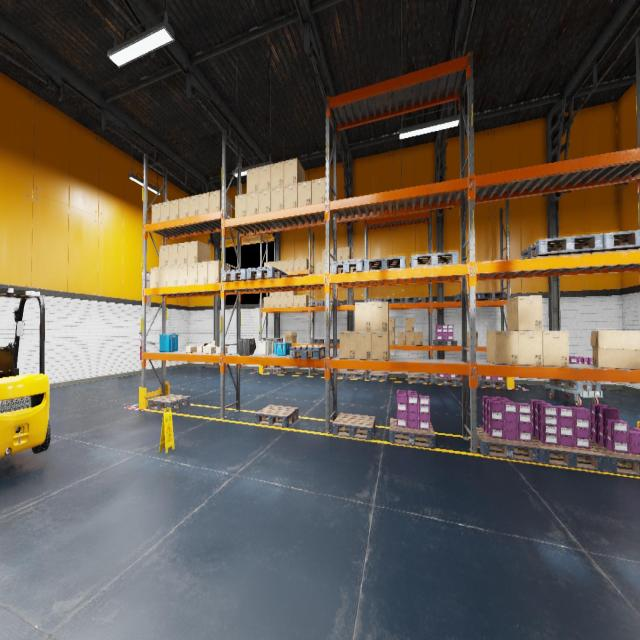box: (590, 330, 640, 370), (507, 295, 542, 330), (487, 331, 518, 365), (542, 331, 569, 366), (518, 330, 543, 366), (312, 177, 331, 212), (209, 190, 232, 218), (284, 157, 305, 185), (371, 301, 389, 331), (208, 260, 230, 283), (372, 331, 389, 360), (188, 241, 210, 263), (355, 331, 371, 360), (355, 302, 371, 331), (339, 331, 355, 359), (298, 180, 312, 206), (271, 161, 284, 188), (258, 164, 271, 191), (284, 183, 297, 209), (271, 186, 284, 211), (258, 189, 271, 213), (247, 167, 258, 193), (246, 192, 258, 215), (235, 194, 246, 217), (197, 261, 208, 284), (199, 192, 209, 215), (168, 243, 178, 266), (187, 263, 197, 285), (169, 199, 179, 220), (160, 201, 170, 222), (189, 194, 198, 217), (178, 242, 187, 264), (159, 244, 168, 266), (179, 197, 188, 218), (178, 264, 187, 285), (168, 265, 177, 286), (159, 266, 168, 287), (150, 267, 159, 287), (467, 331, 478, 346), (152, 203, 160, 223), (284, 331, 297, 343), (203, 340, 215, 352), (414, 331, 423, 345), (406, 331, 414, 345), (398, 331, 406, 345), (406, 318, 414, 331), (343, 246, 351, 259), (300, 294, 308, 306), (300, 258, 308, 270), (389, 331, 395, 345), (315, 262, 322, 274), (389, 318, 395, 331), (216, 346, 227, 353), (206, 346, 217, 353), (275, 296, 281, 308), (269, 296, 275, 308), (288, 259, 294, 271), (186, 346, 197, 352), (294, 295, 300, 306), (287, 296, 293, 307), (281, 296, 287, 307), (294, 259, 300, 270), (337, 247, 342, 260), (282, 260, 287, 272), (349, 258, 356, 266), (264, 297, 269, 307), (276, 261, 281, 270), (197, 345, 203, 352), (287, 291, 297, 295), (330, 248, 333, 260), (322, 249, 325, 261), (330, 260, 333, 272), (322, 262, 325, 274), (270, 262, 275, 268), (264, 262, 270, 267), (281, 292, 287, 296), (275, 292, 281, 296), (269, 292, 275, 296), (343, 259, 349, 262), (337, 260, 342, 262)
forklift: (0, 287, 50, 456)
pallets: (532, 435, 606, 472), (477, 427, 539, 463), (520, 233, 603, 259), (590, 439, 640, 477), (389, 418, 435, 448), (590, 230, 640, 254), (333, 413, 375, 440), (256, 405, 298, 427), (409, 251, 458, 268), (148, 394, 190, 411), (364, 256, 406, 271), (550, 379, 601, 391), (247, 266, 287, 280), (331, 259, 364, 274), (289, 346, 325, 359), (222, 268, 254, 282), (477, 378, 506, 388), (476, 292, 506, 300), (433, 375, 457, 385), (456, 376, 480, 386), (454, 293, 481, 301), (408, 374, 428, 383), (369, 372, 388, 381), (345, 371, 365, 379), (433, 340, 457, 346), (264, 367, 283, 374), (332, 370, 348, 378), (383, 298, 403, 304), (405, 297, 425, 303), (324, 300, 342, 306), (263, 338, 283, 343), (311, 338, 325, 344), (310, 300, 324, 306), (367, 298, 383, 302), (330, 338, 339, 344)
